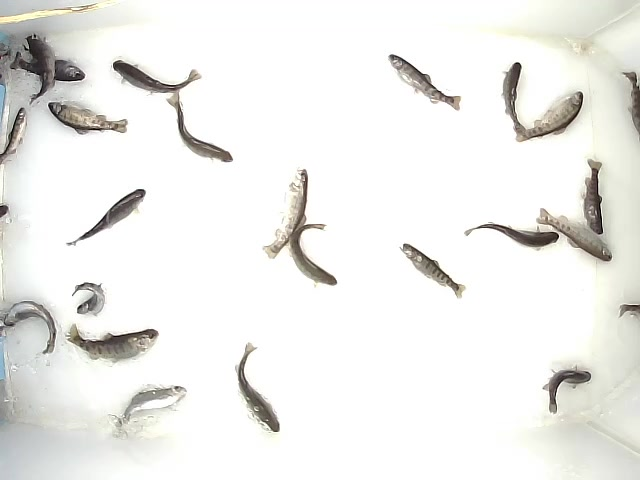fish: (164, 89, 233, 164), (64, 187, 147, 249), (261, 166, 310, 260), (233, 341, 281, 434), (387, 54, 462, 112), (535, 207, 614, 262), (64, 321, 159, 365), (398, 242, 467, 300), (514, 90, 584, 144), (106, 384, 189, 429), (111, 58, 203, 97), (287, 222, 337, 288), (2, 300, 58, 357), (463, 220, 560, 252), (542, 363, 592, 416), (9, 50, 86, 84), (24, 31, 56, 105), (500, 60, 528, 135), (582, 156, 605, 237), (72, 281, 106, 318)
